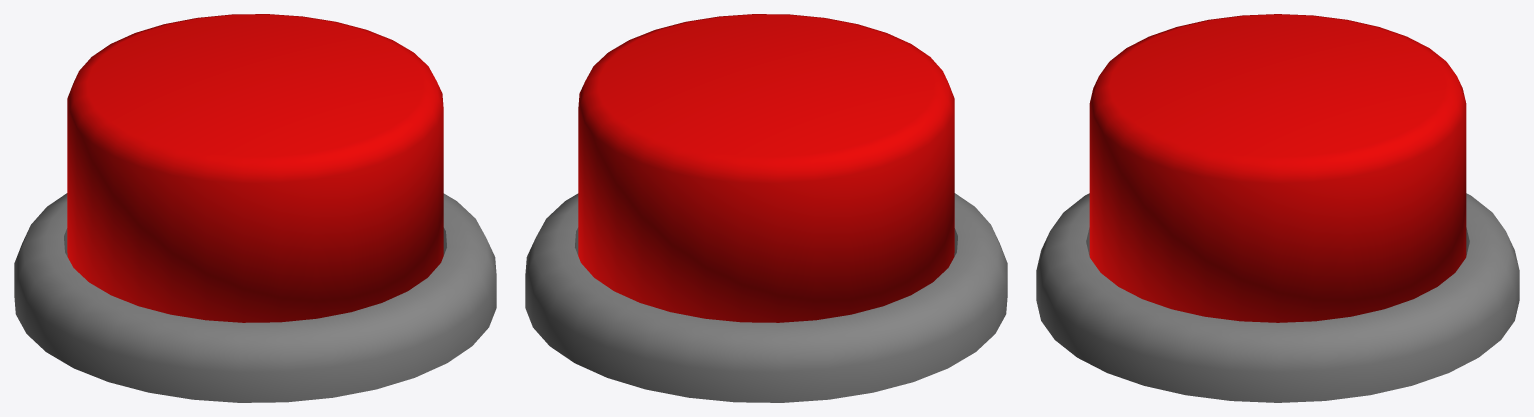
The model's file is button.fbx.
3 renders of one model, left to right at view 1: azimuth 30°, elevation 25°; view 2: azimuth 150°, elevation 25°; view 3: azimuth 270°, elevation 25°, orthographic.
Parts seen in each view (by area): view 1: Press, Button; view 2: Press, Button; view 3: Press, Button.
Part boxes in pixels (x1=…): Press: x1=67, y1=14, x2=443, y2=322; Button: x1=14, y1=193, x2=496, y2=402; Press: x1=578, y1=14, x2=954, y2=322; Button: x1=525, y1=193, x2=1007, y2=402; Press: x1=1089, y1=14, x2=1466, y2=322; Button: x1=1036, y1=193, x2=1519, y2=402.
Bounding box in the file's own units: 200 × 98.25 × 200.
